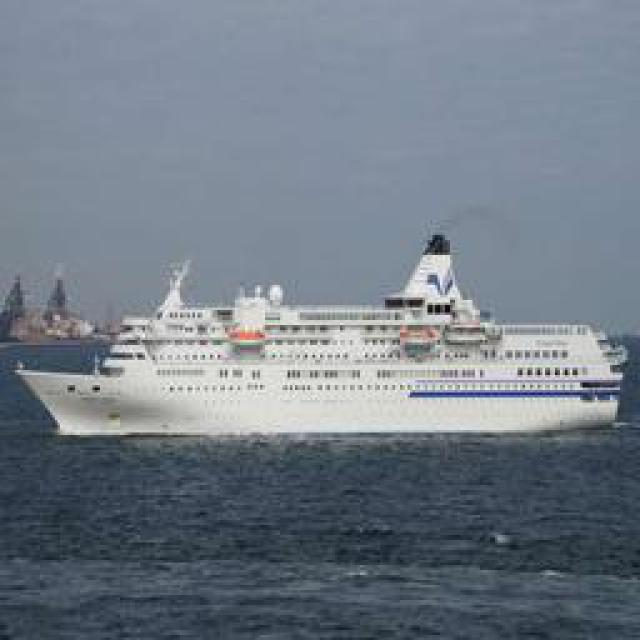Ship: (14, 236, 624, 439)
